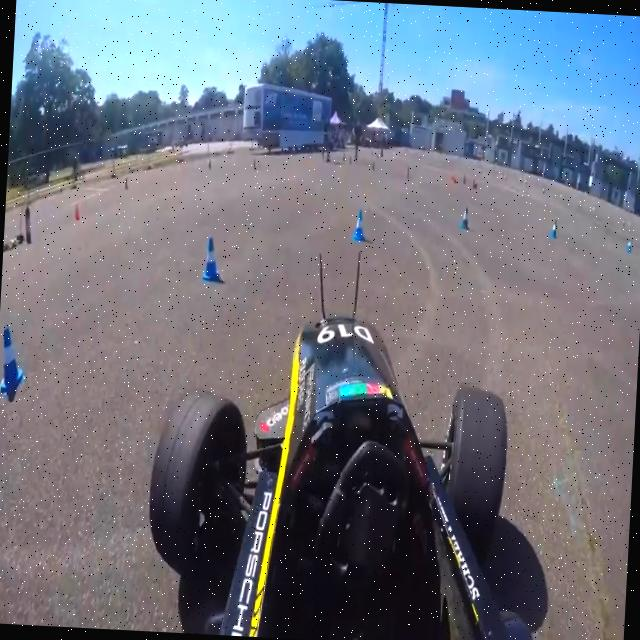blue_cone: (0, 323, 28, 396), (202, 235, 222, 282), (352, 208, 367, 242), (460, 206, 472, 232), (550, 219, 560, 239)
